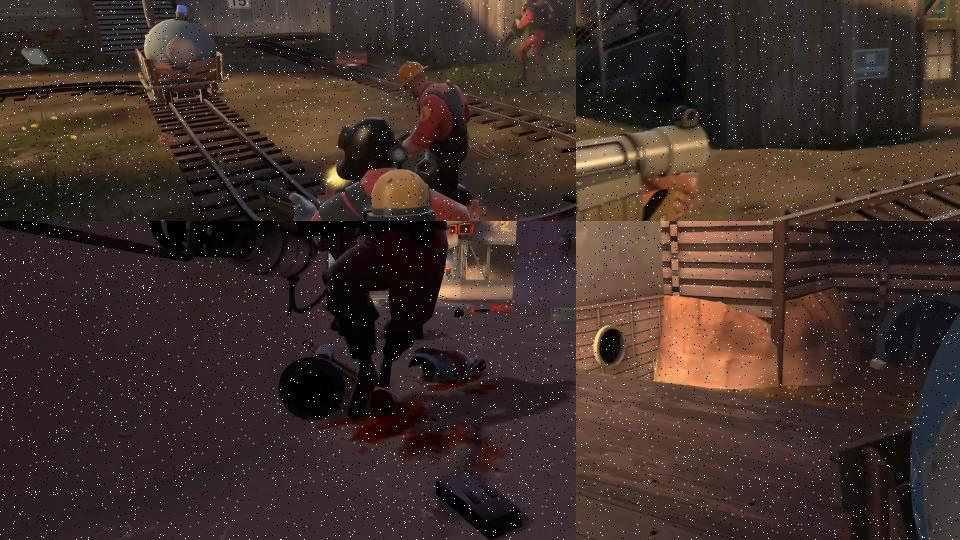Enemy: (0, 221, 461, 423), (576, 0, 712, 221), (252, 120, 489, 221), (398, 61, 472, 206), (499, 0, 554, 79)
